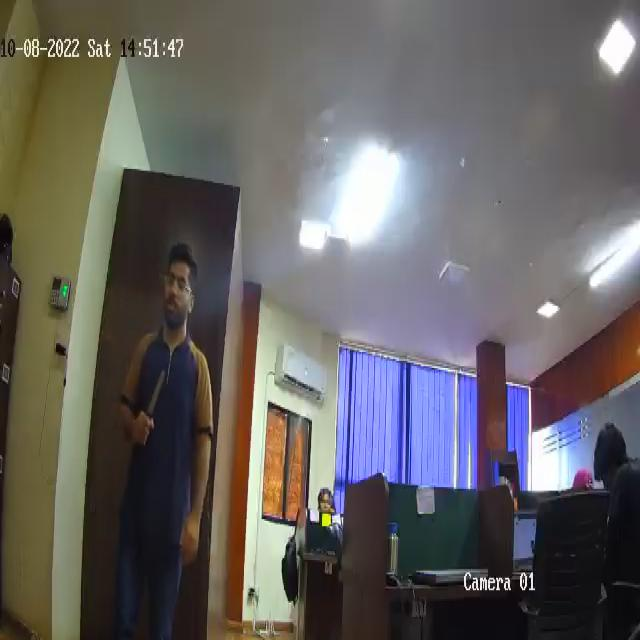Knife: (140, 359, 166, 443)
